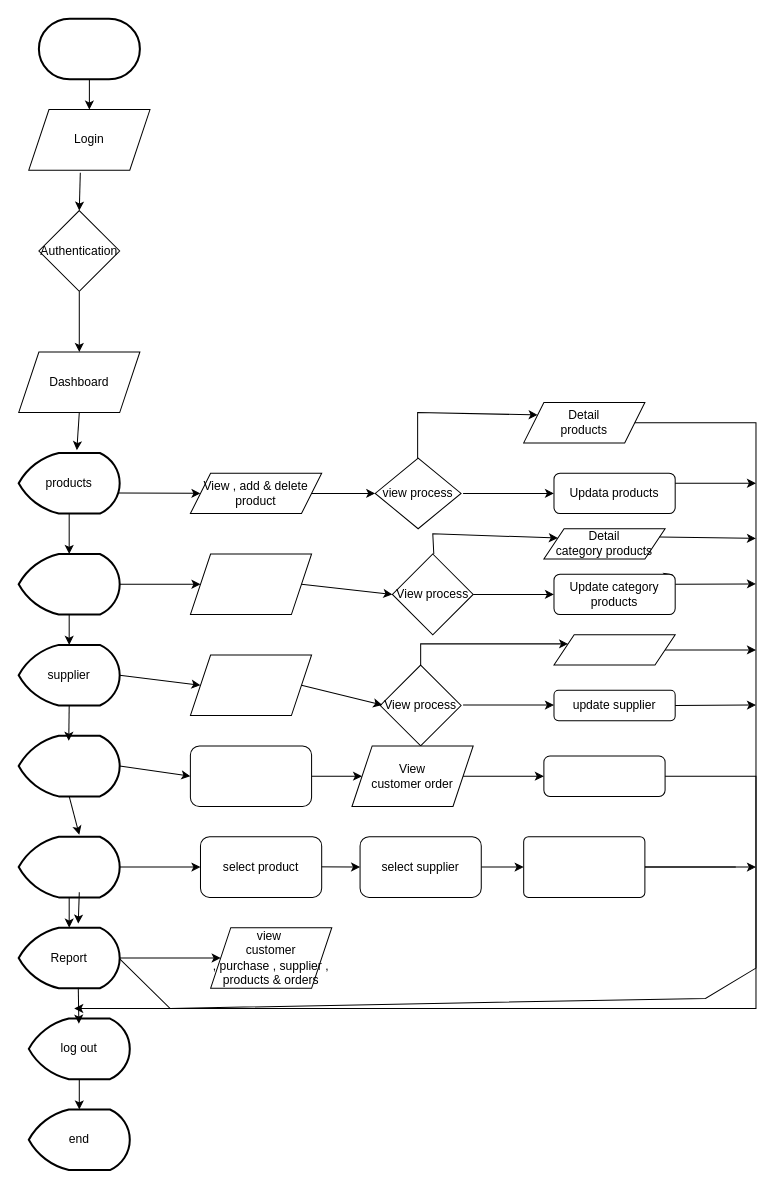
The diagram is 782 pixels wide and 1188 high, and some of its shapes have lost their labels. The shapes that lost their labels are listed below. From the top down, each one's box as (x1, y1, x2, y2) in pixels, then its label:
(37, 17, 140, 80): Start
(17, 552, 120, 615): Category products
(189, 553, 312, 615): View &add category Products
(553, 634, 675, 665): Detail supplier
(189, 654, 312, 716): View & add supplier
(17, 734, 120, 797): Customer order
(189, 745, 312, 806): Add order
(543, 755, 665, 796): Order Approve
(17, 835, 120, 898): purchase
(523, 836, 645, 897): add purchase
